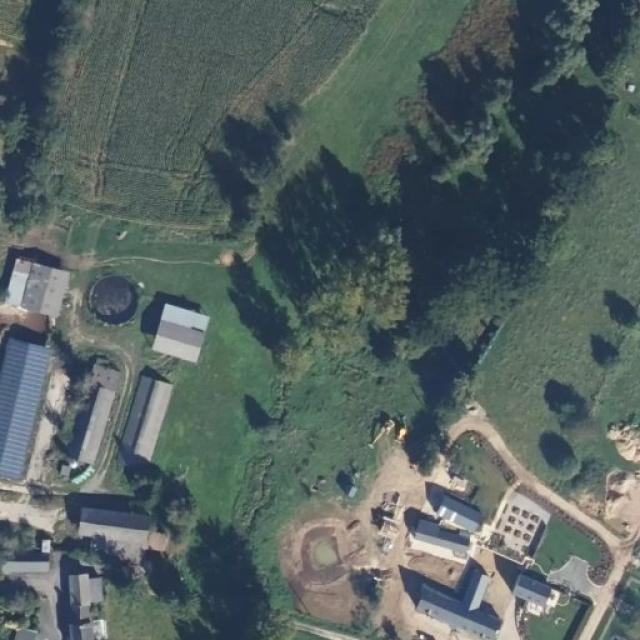ferme: (1, 335, 54, 499), (0, 237, 70, 324), (113, 365, 174, 460), (149, 305, 213, 363)
maison: (0, 561, 113, 640), (416, 564, 521, 640), (73, 495, 173, 560), (409, 493, 485, 558), (502, 571, 568, 615)
